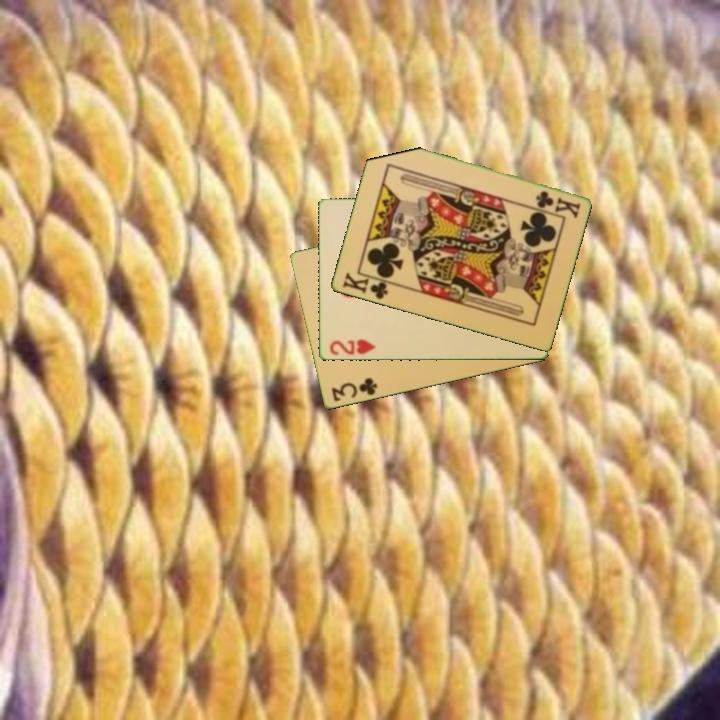2h: (326, 336, 378, 358)
3c: (328, 374, 380, 405)
Kc: (339, 269, 395, 302), (532, 187, 583, 220)
